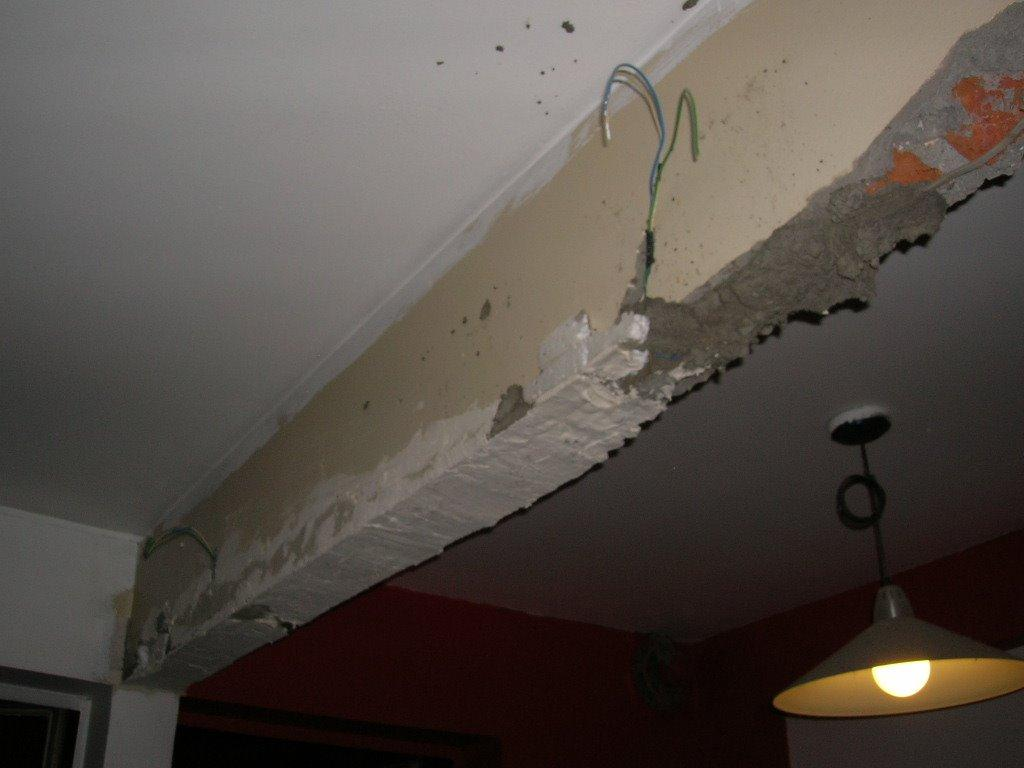spalling: (615, 1, 1024, 405)
